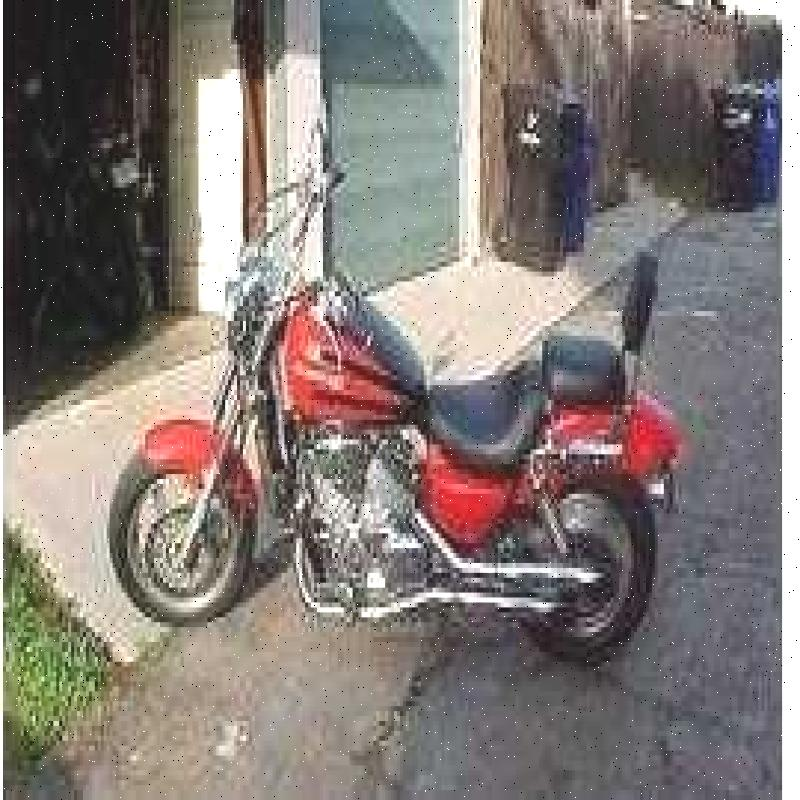bike: (101, 125, 709, 646)
